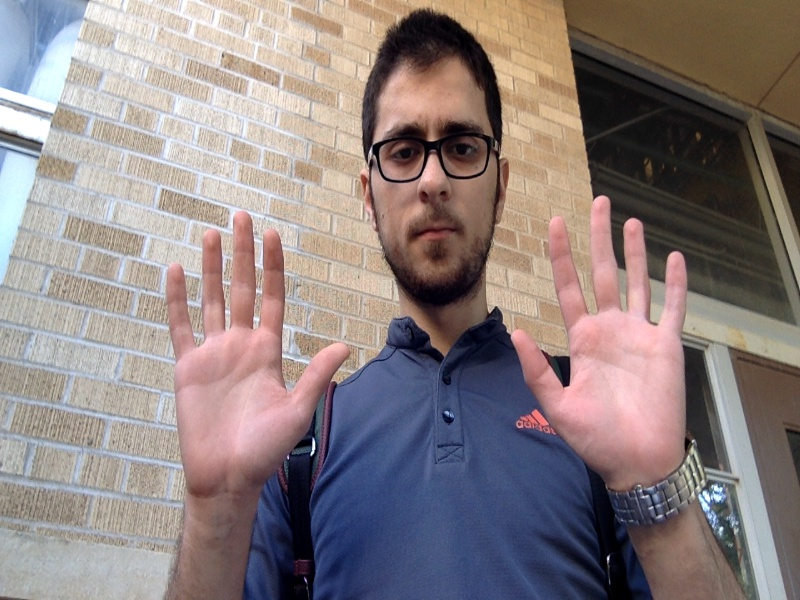5-hand: (167, 214, 349, 486), (513, 193, 684, 471)
